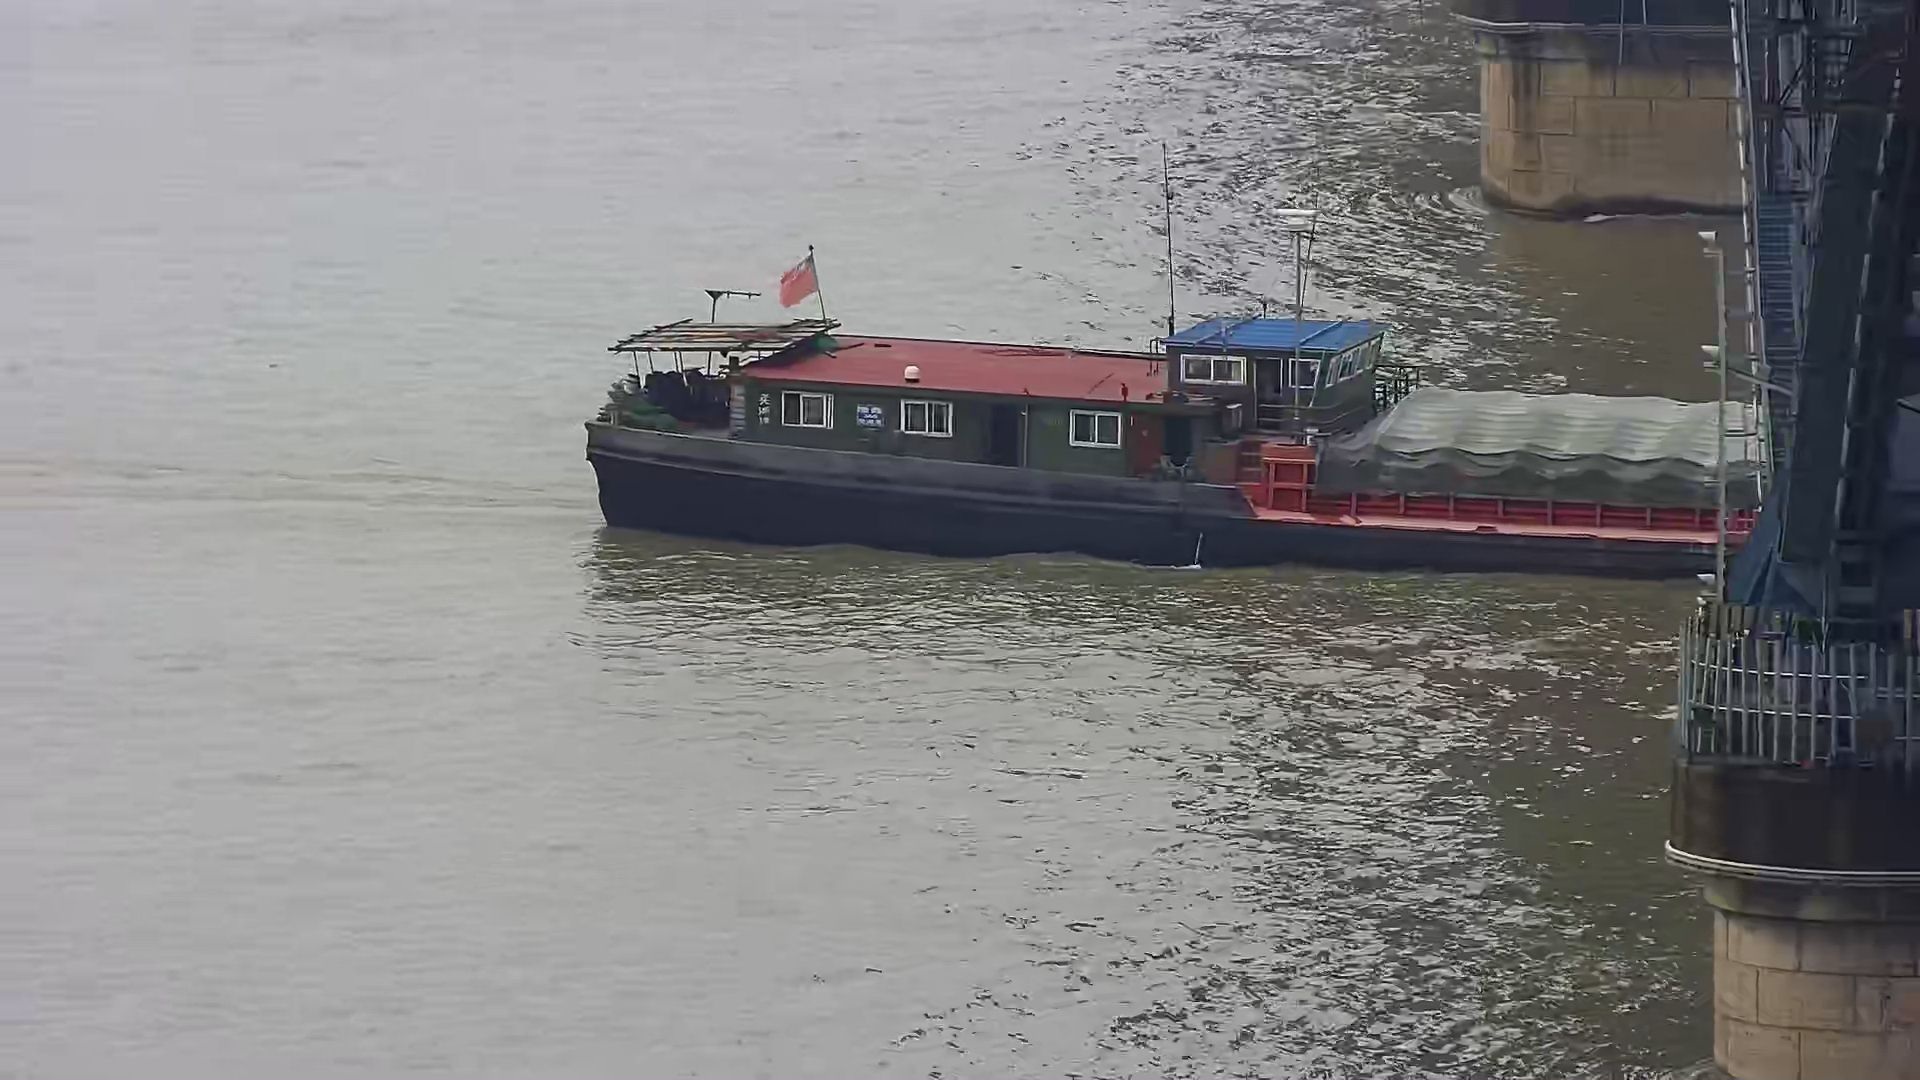bridge: (1449, 1, 1920, 1080)
ship: (582, 274, 1763, 589)
